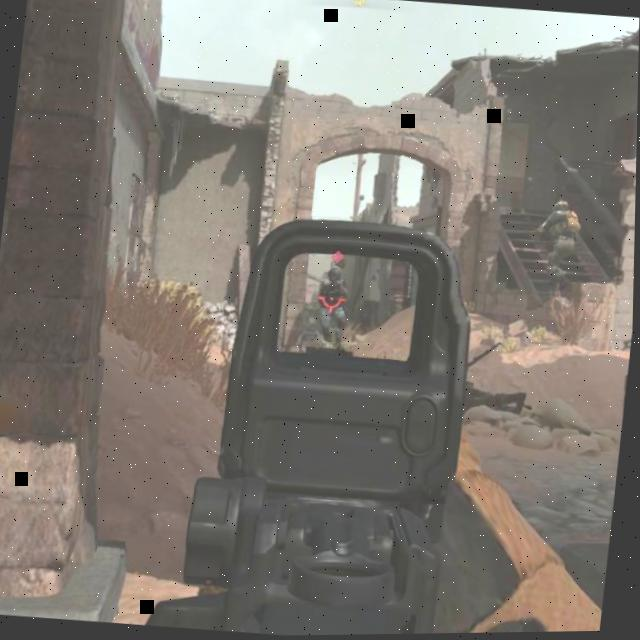MW2_body: (535, 201, 583, 289), (314, 251, 356, 350)
